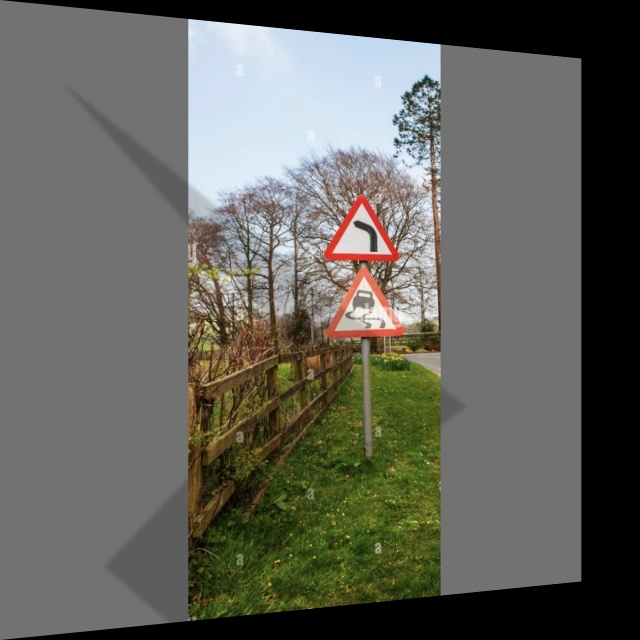Slippery_Road: (328, 266, 402, 341)
